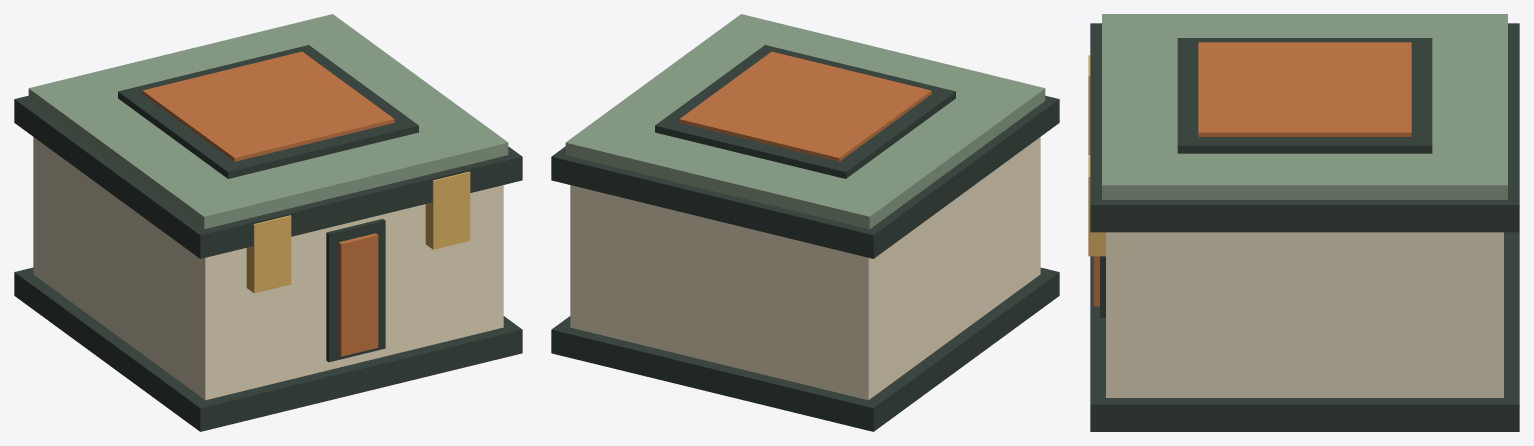
Rendered from quality-warm.glb.
3 renders of one model, left to right at view 1: azimuth 30°, elevation 25°; view 2: azimuth 150°, elevation 25°; view 3: azimuth 270°, elevation 25°, orthographic. The views are drawn at different scales.
Parts seen in each view (by area): view 1: Insulated case, Mesh_CargoContainer_ink, Sealed case lid, ThermalSurface, Mesh_CargoContainer_brass, Quantity fill; view 2: Insulated case, Mesh_CargoContainer_ink, Sealed case lid, ThermalSurface; view 3: Insulated case, Mesh_CargoContainer_ink, Sealed case lid, ThermalSurface, Mesh_CargoContainer_brass.
Boxes of the visible parts, <box> form: Insulated case: <box>33,137,503,400</box>; Mesh_CargoContainer_ink: <box>14,45,522,431</box>; Sealed case lid: <box>28,14,508,229</box>; ThermalSurface: <box>142,51,394,161</box>; Mesh_CargoContainer_brass: <box>246,171,470,293</box>; Quantity fill: <box>338,233,378,356</box>; Insulated case: <box>570,137,1040,400</box>; Mesh_CargoContainer_ink: <box>551,45,1059,431</box>; Sealed case lid: <box>565,14,1045,229</box>; ThermalSurface: <box>679,51,931,161</box>; Insulated case: <box>1106,232,1503,397</box>; Mesh_CargoContainer_ink: <box>1090,23,1519,431</box>; Sealed case lid: <box>1102,14,1507,199</box>; ThermalSurface: <box>1198,42,1411,136</box>; Mesh_CargoContainer_brass: <box>1088,55,1105,256</box>.
Size of the model in its own units: 0.54 by 0.358 by 0.5425.
